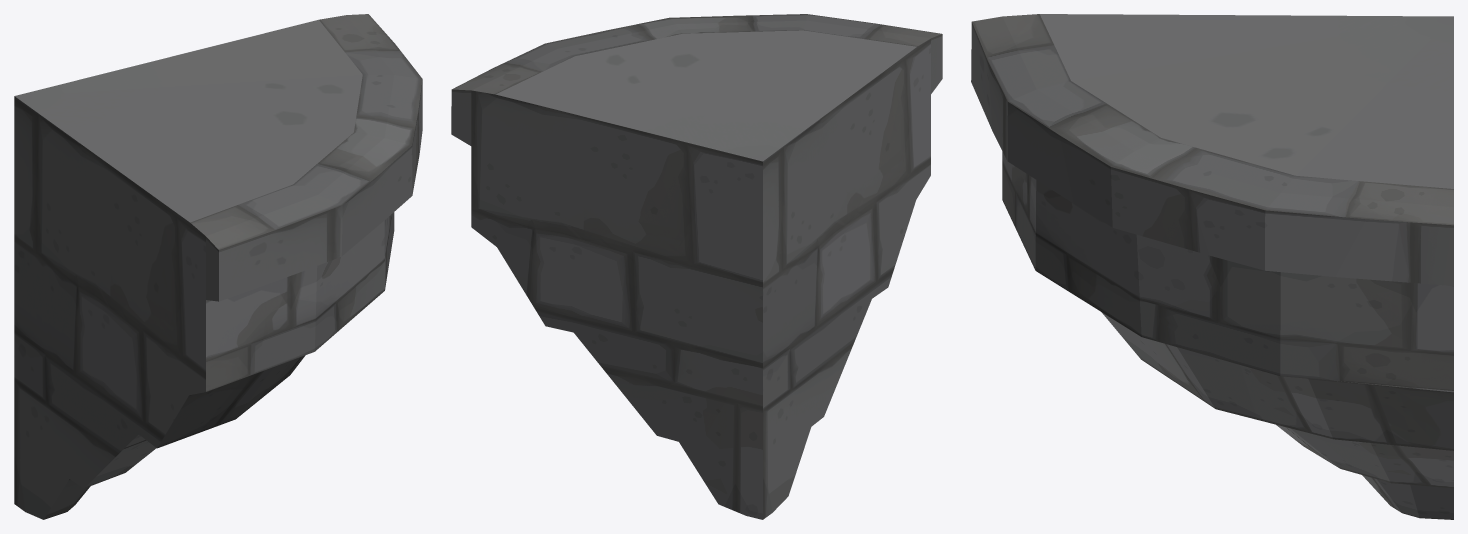
Rendered from SM_Bld_Wall_L_Curve_Base_02.fbx.
3 views of the same model, side by side, from view 1: azimuth 30°, elevation 25°; view 2: azimuth 150°, elevation 25°; view 3: azimuth 270°, elevation 25° (orthographic). The views are drawn at different scales.
Parts seen in each view (by area): view 1: SM_Bld_Wall_L_Curve_Base_02; view 2: SM_Bld_Wall_L_Curve_Base_02; view 3: SM_Bld_Wall_L_Curve_Base_02.
Boxes of the visible parts, x1,y1,x2,y2 form: SM_Bld_Wall_L_Curve_Base_02: (14,14,422,519); SM_Bld_Wall_L_Curve_Base_02: (451,14,942,519); SM_Bld_Wall_L_Curve_Base_02: (971,14,1453,519).
Bounding box in the file's own units: 345 × 381 × 345.
